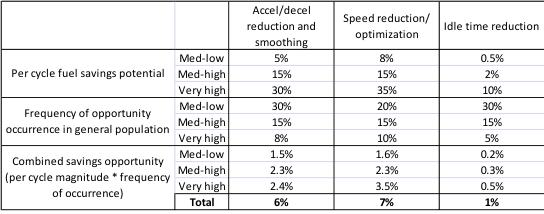table: (3, 3, 538, 208)
table column: (3, 3, 172, 208), (328, 3, 435, 208), (435, 3, 538, 208), (235, 3, 328, 208), (172, 3, 235, 208)
table column header: (3, 3, 538, 49)
table row: (3, 3, 538, 49), (3, 145, 538, 162), (3, 49, 538, 65), (3, 65, 538, 81), (3, 81, 538, 97), (3, 97, 538, 113), (3, 113, 538, 129), (3, 129, 538, 145), (3, 162, 538, 178), (3, 178, 538, 194), (3, 194, 538, 208)
table spanning cell: (3, 145, 172, 208), (3, 49, 172, 97), (3, 97, 172, 145)
